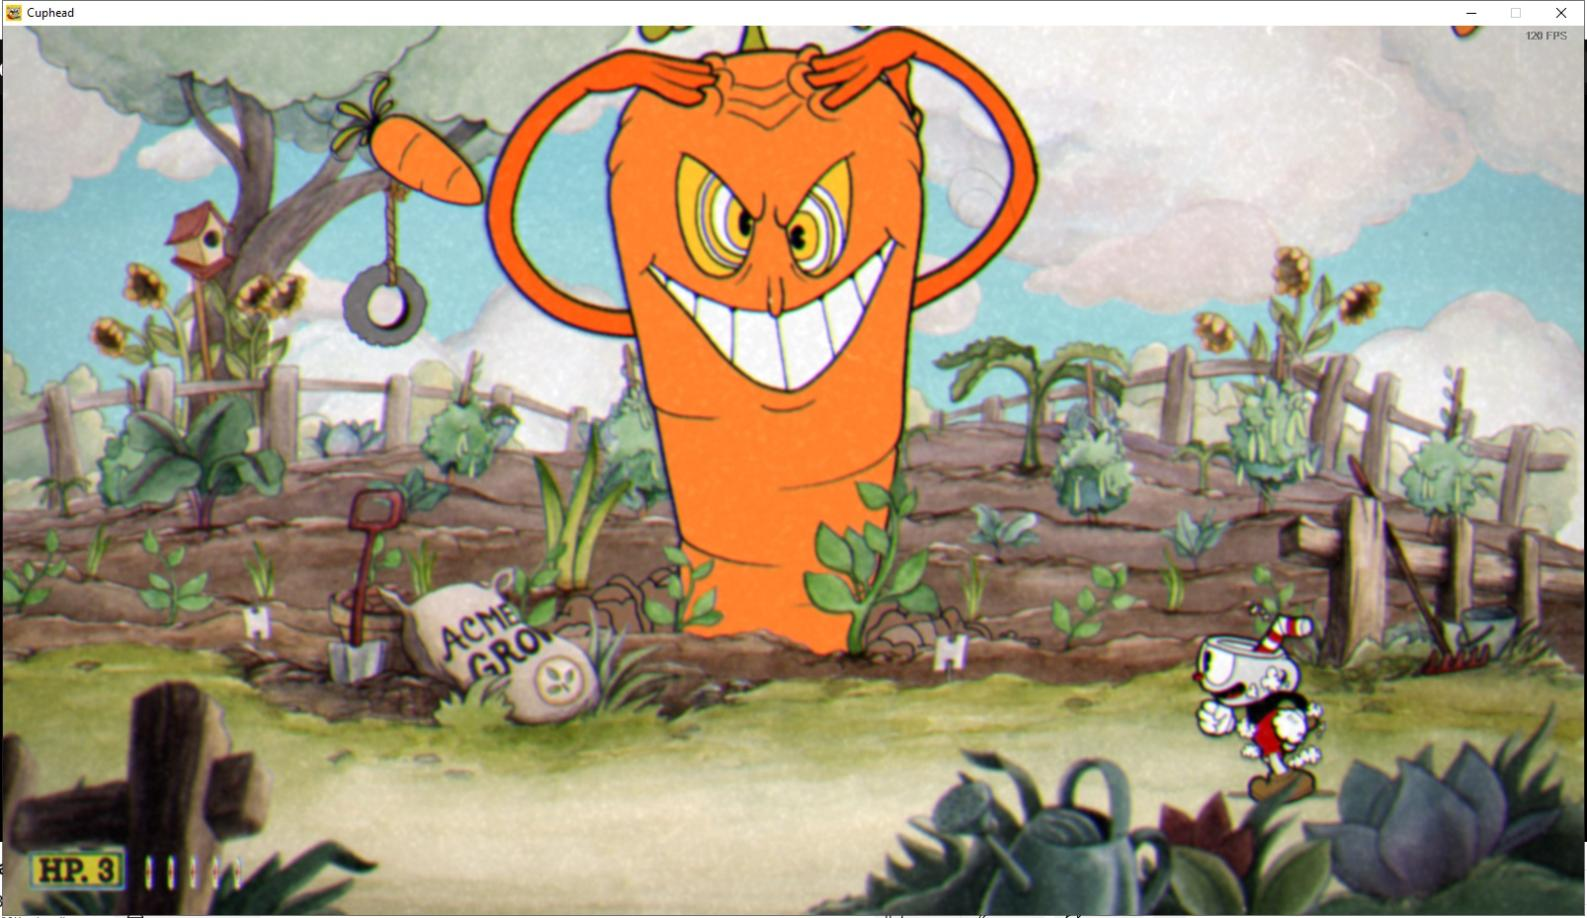carrot: (328, 68, 491, 216)
hp3: (94, 853, 123, 889)
player: (1172, 600, 1350, 806)
